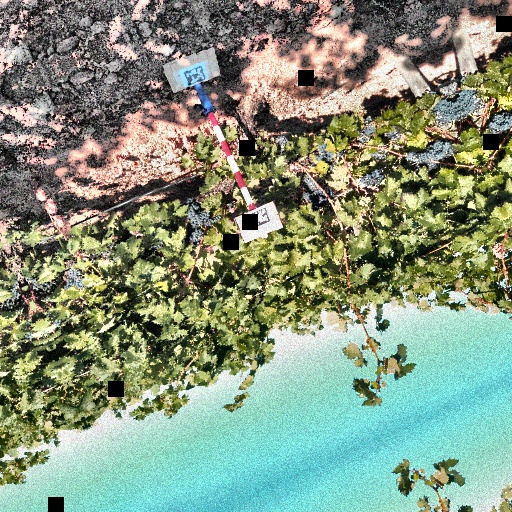QR: (246, 206, 272, 230), (182, 63, 208, 87)
